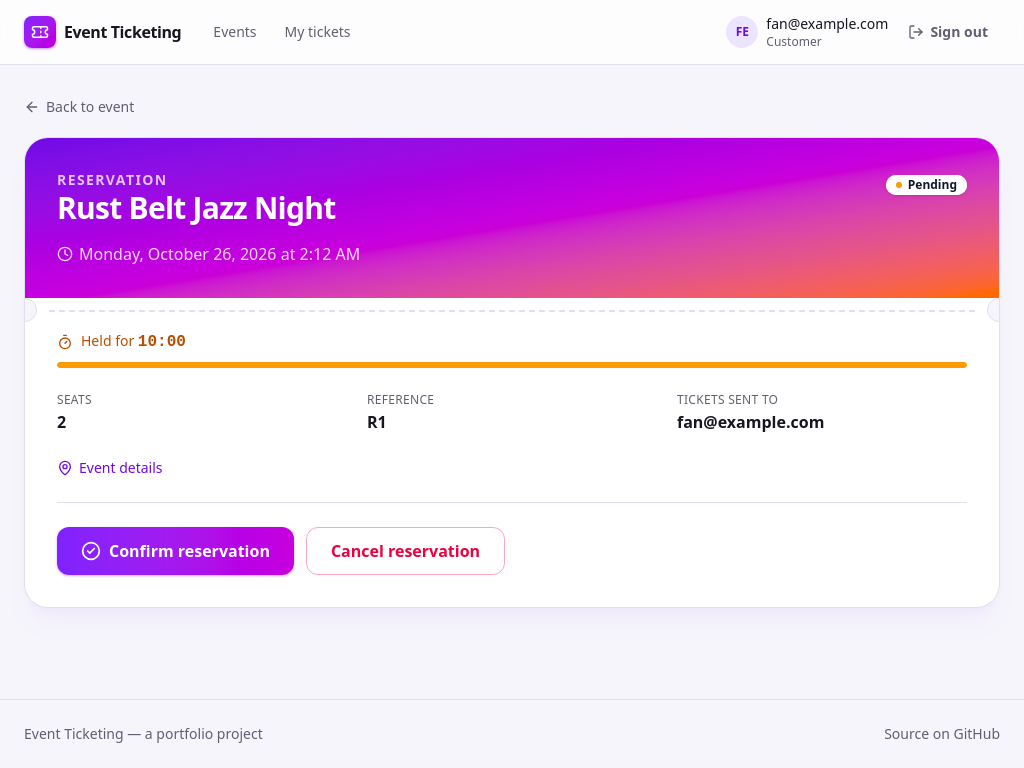
Test: ReservationPage › explains when the hold has already expired
This screenshot has width=1024, height=768.
Click the button "Confirm reservation" at {"x": 175, "y": 551}, box [57, 527, 294, 575]
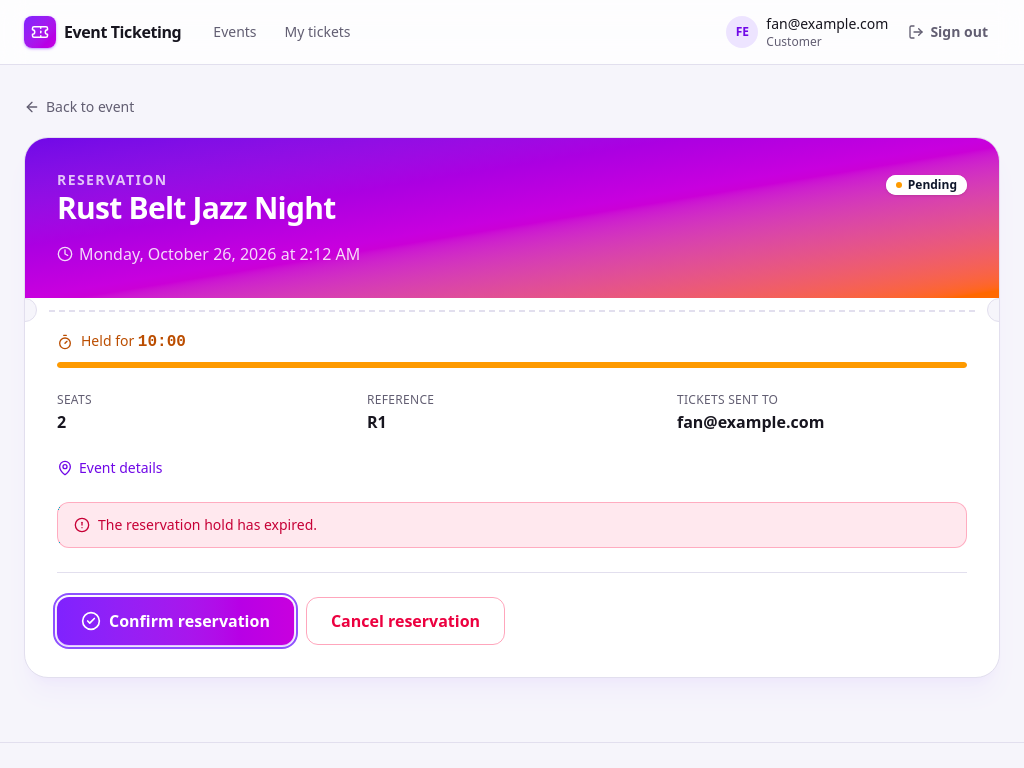
Expected: the message reads "The reservation hold has expired.", [98, 515, 317, 534]
